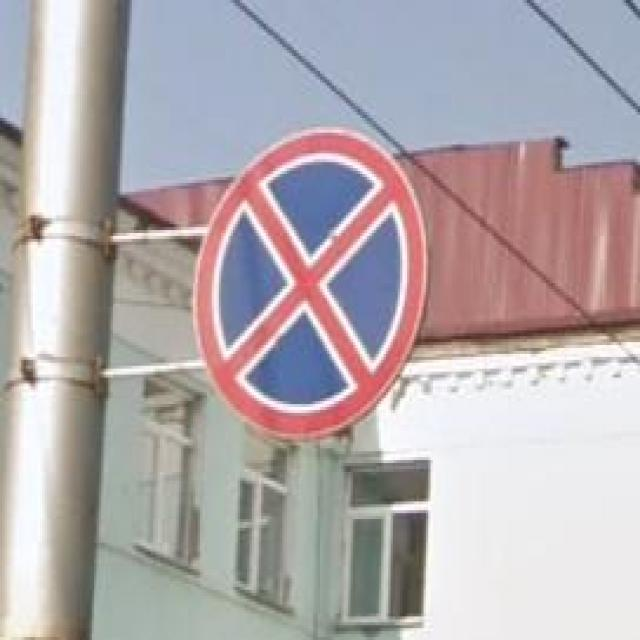traffic_sign: (193, 127, 426, 439)
